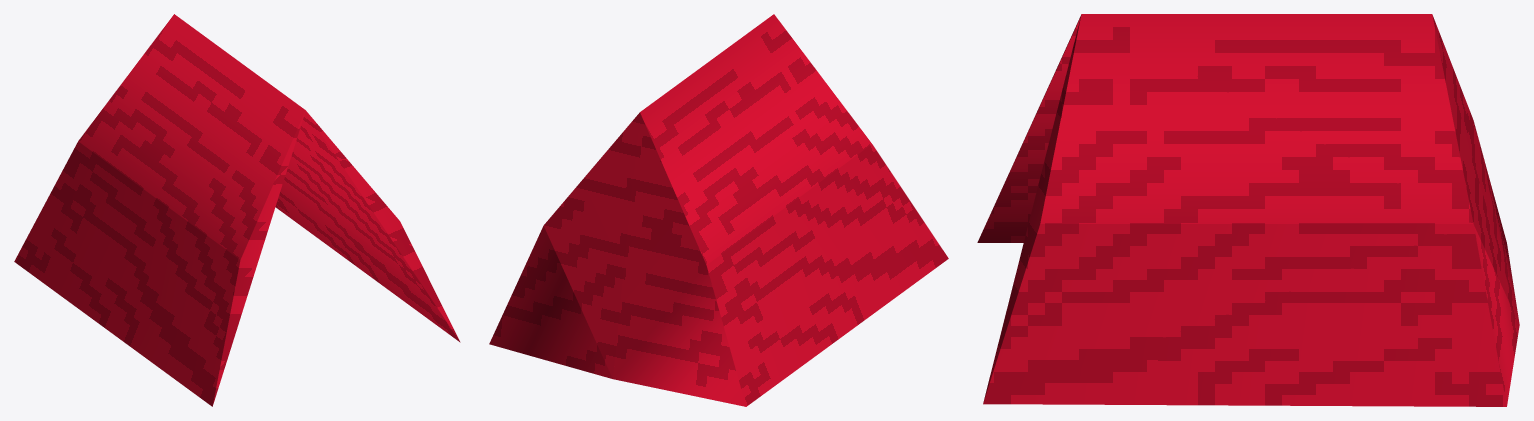
Rendered from tent-exp.fbx.
3 renders of one model, left to right at view 1: azimuth 30°, elevation 25°; view 2: azimuth 150°, elevation 25°; view 3: azimuth 270°, elevation 25°, orthographic. The views are drawn at different scales.
Visible parts, largest first — view 1: pCube1; view 2: pCube1; view 3: pCube1.
Part boxes in pixels (bbox=[...]): pCube1: bbox=[14, 14, 460, 406]; pCube1: bbox=[489, 14, 948, 406]; pCube1: bbox=[977, 14, 1519, 406].
Size of the model in its own units: 2.25 by 2.02 by 3.15.
1 material, 1 textured.
